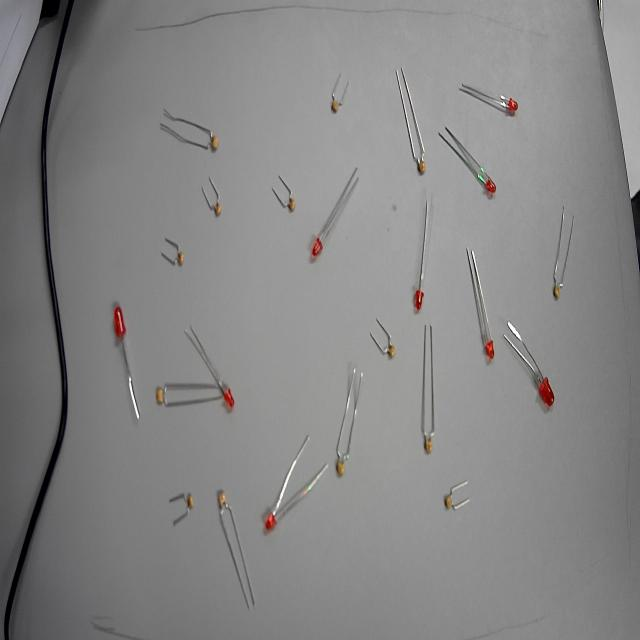LED_red: (104, 286, 136, 358), (531, 358, 565, 422), (251, 496, 286, 558), (210, 373, 246, 429), (471, 164, 505, 204), (406, 261, 426, 324), (476, 325, 502, 368), (493, 83, 519, 122), (307, 235, 331, 272)
capacitor: (430, 486, 480, 528), (414, 403, 444, 464), (166, 485, 200, 535), (198, 188, 235, 230), (149, 373, 178, 421), (548, 259, 574, 311), (321, 82, 351, 126), (329, 440, 355, 489), (199, 126, 228, 168), (406, 146, 435, 188), (212, 486, 239, 529), (373, 332, 398, 370), (167, 235, 188, 279), (279, 184, 300, 227)
